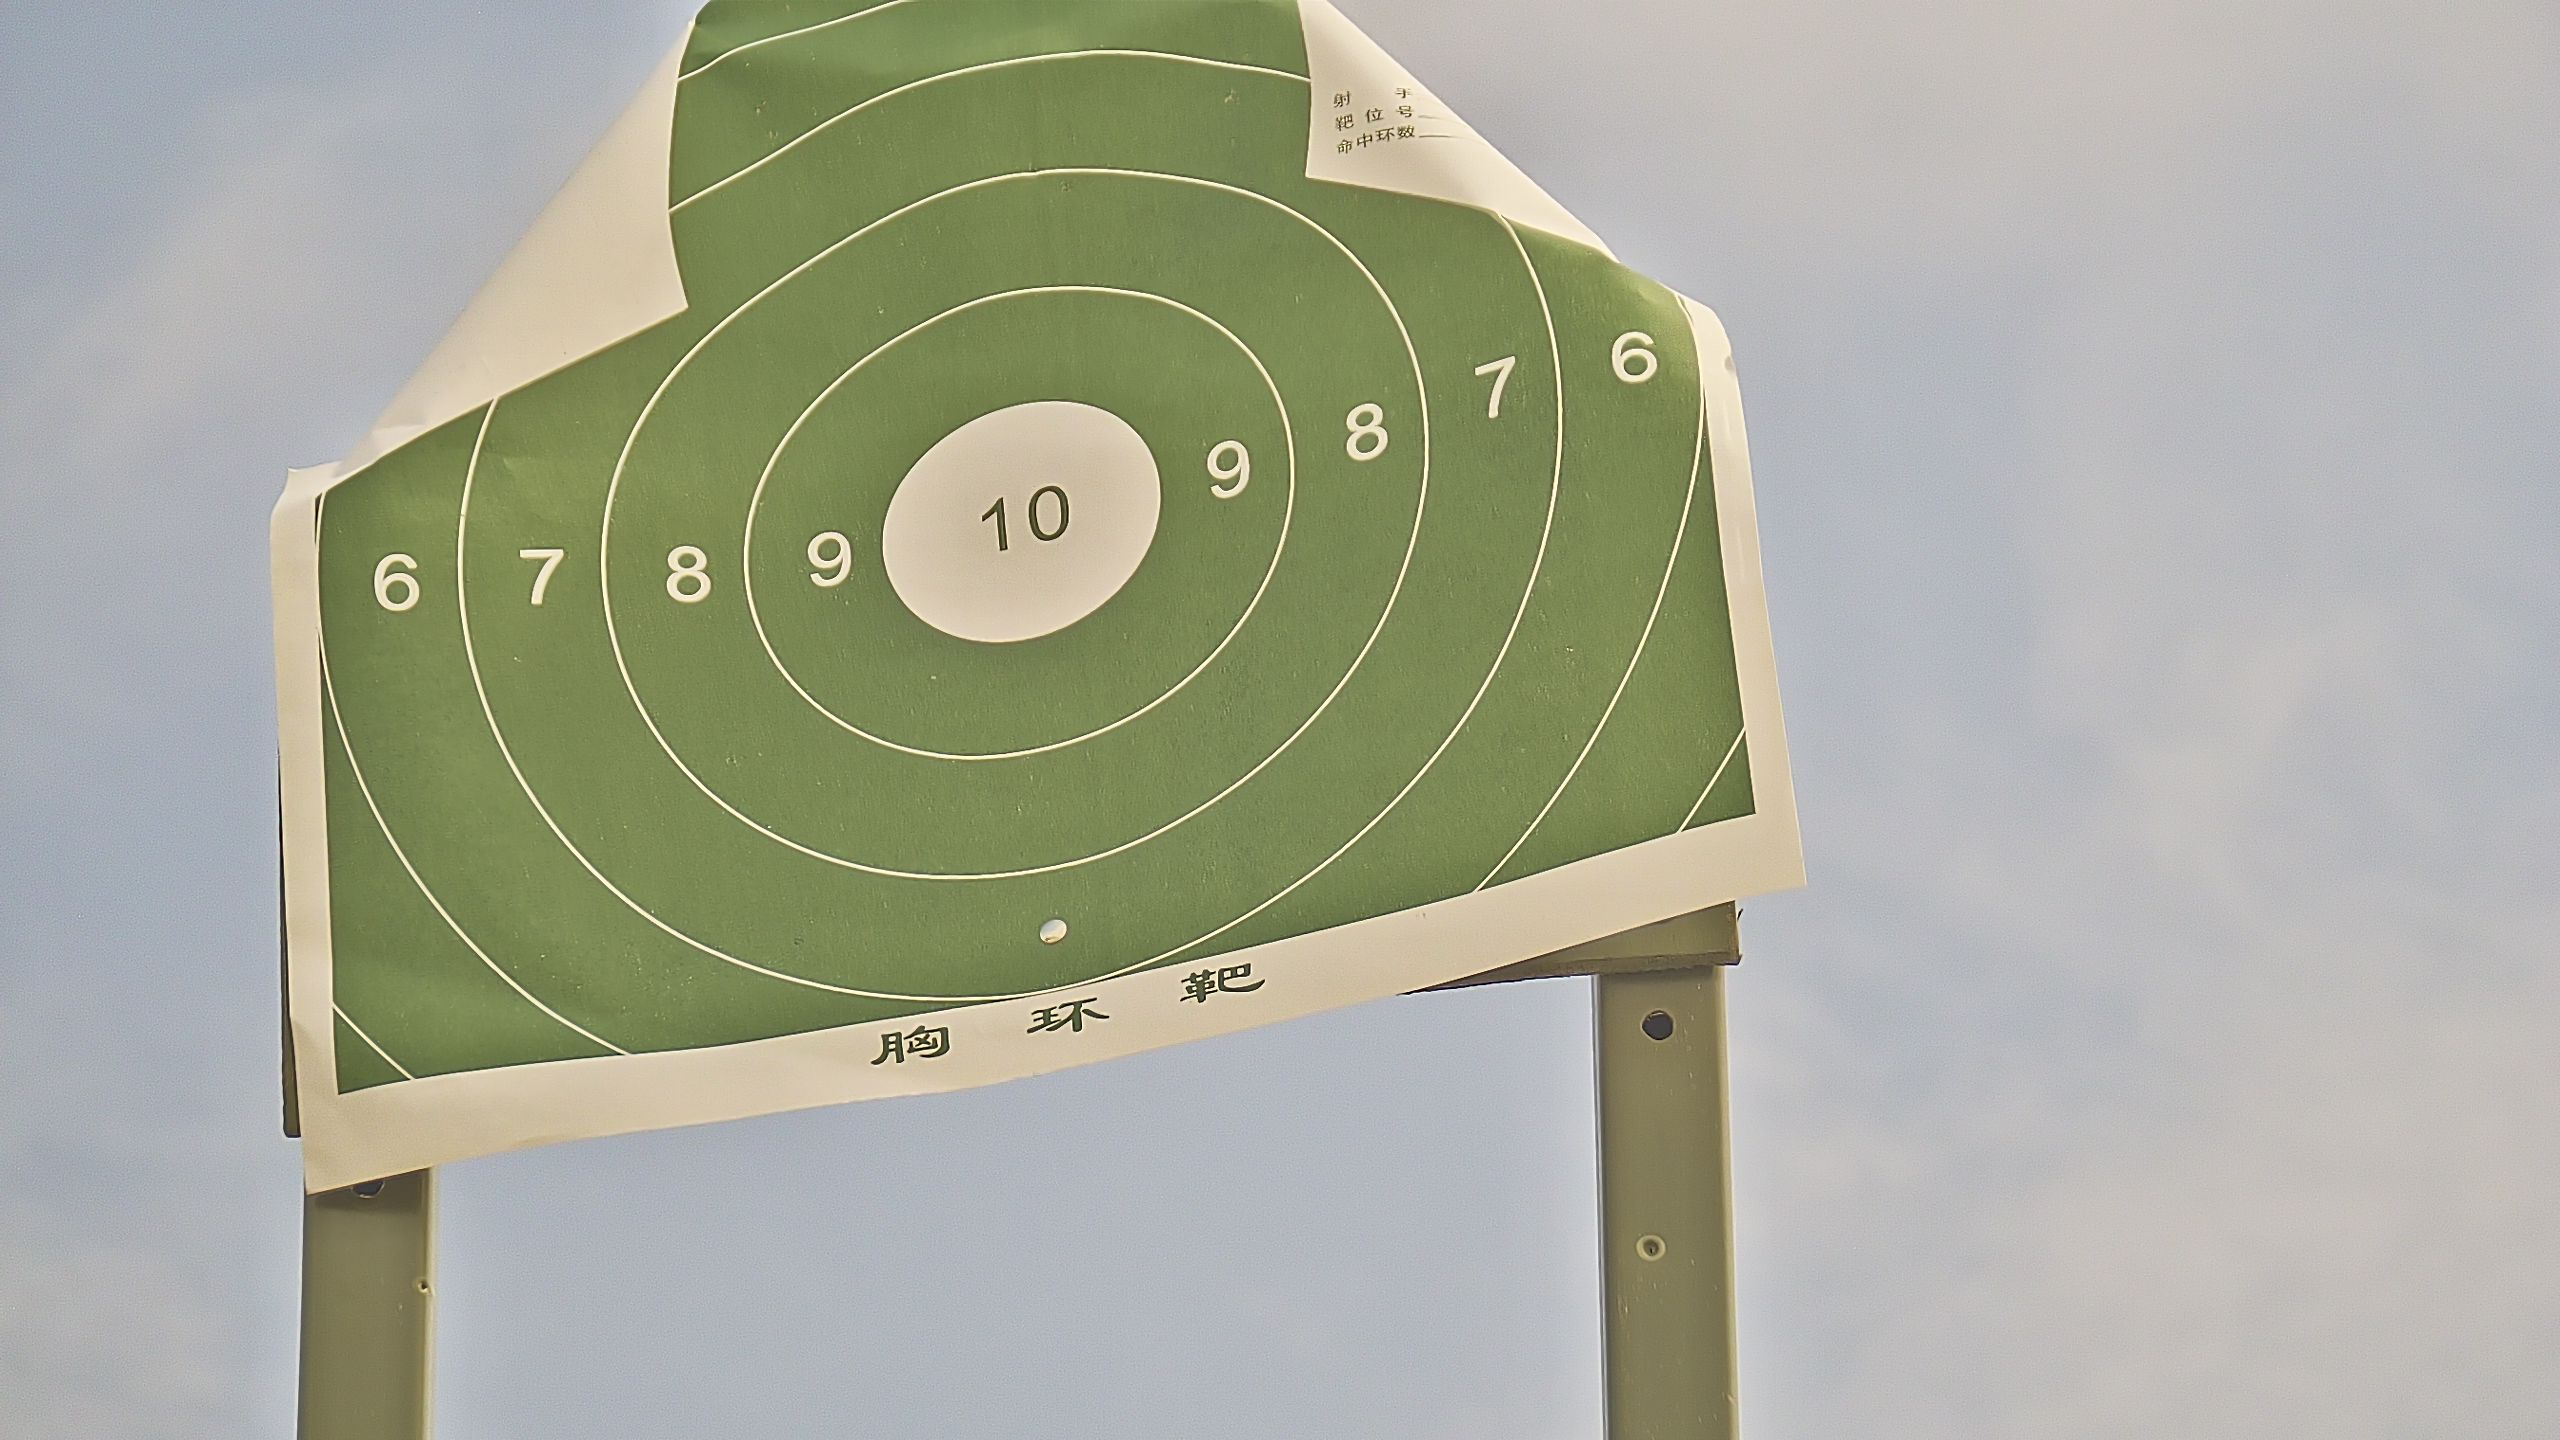target: (308, 2, 1765, 1104)
ten: (877, 401, 1173, 644)
